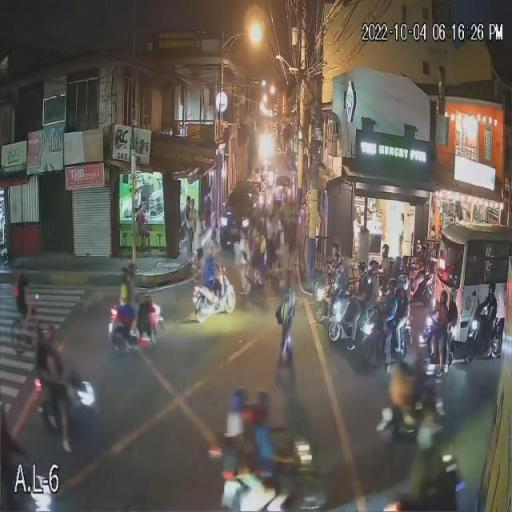helmet: (42, 324, 66, 354), (252, 391, 270, 422), (240, 406, 262, 428), (230, 390, 248, 414), (484, 280, 498, 300), (377, 244, 392, 262), (329, 251, 343, 270), (356, 260, 368, 282), (124, 265, 140, 281), (446, 288, 460, 304), (120, 266, 130, 283), (436, 291, 446, 305), (386, 275, 398, 286), (368, 260, 379, 270), (410, 266, 420, 276)
motorcycle: (377, 385, 465, 511), (220, 428, 326, 511), (31, 360, 97, 431), (108, 294, 166, 354), (406, 305, 446, 375), (363, 303, 404, 368), (340, 288, 379, 354), (192, 271, 236, 325), (314, 277, 350, 343), (458, 310, 499, 366)
rider: (34, 325, 82, 452), (380, 350, 436, 454), (236, 406, 266, 512), (226, 388, 256, 483), (251, 388, 281, 482), (378, 274, 406, 356), (352, 258, 382, 326), (470, 282, 500, 344), (405, 268, 432, 330), (200, 249, 225, 309), (321, 252, 348, 307), (115, 265, 134, 340), (408, 249, 430, 297), (128, 264, 142, 339)
